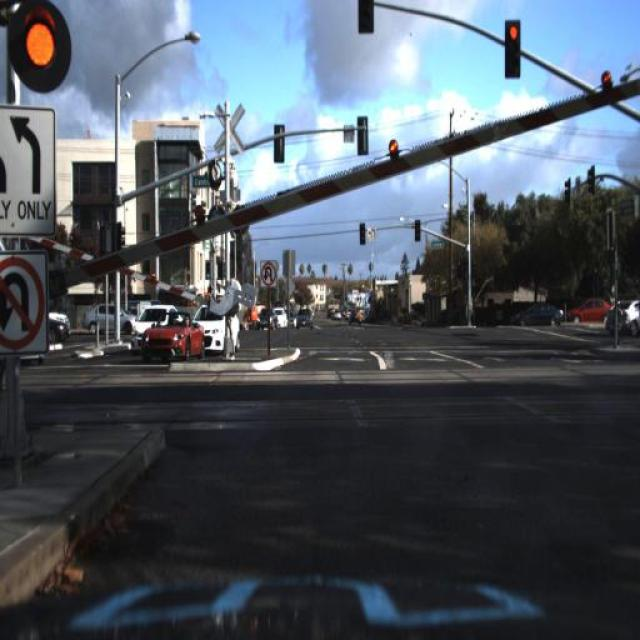car: (142, 306, 206, 360), (77, 302, 142, 342), (196, 309, 242, 356), (513, 293, 565, 332), (564, 294, 617, 328), (126, 305, 162, 353), (507, 302, 562, 328), (570, 290, 606, 326), (36, 316, 70, 346), (44, 317, 68, 351), (292, 304, 314, 330), (351, 299, 368, 332), (255, 306, 277, 330), (47, 310, 73, 330), (271, 305, 287, 336), (253, 305, 271, 327), (342, 300, 352, 325)
trafficLight: (610, 289, 624, 353)
trafficLight-Green: (503, 19, 521, 80), (356, 210, 372, 250), (412, 214, 422, 242)
trafficLight-GreenLeft: (459, 251, 470, 284)
trafficLight-RedLeft: (0, 0, 105, 100), (496, 12, 529, 87)
